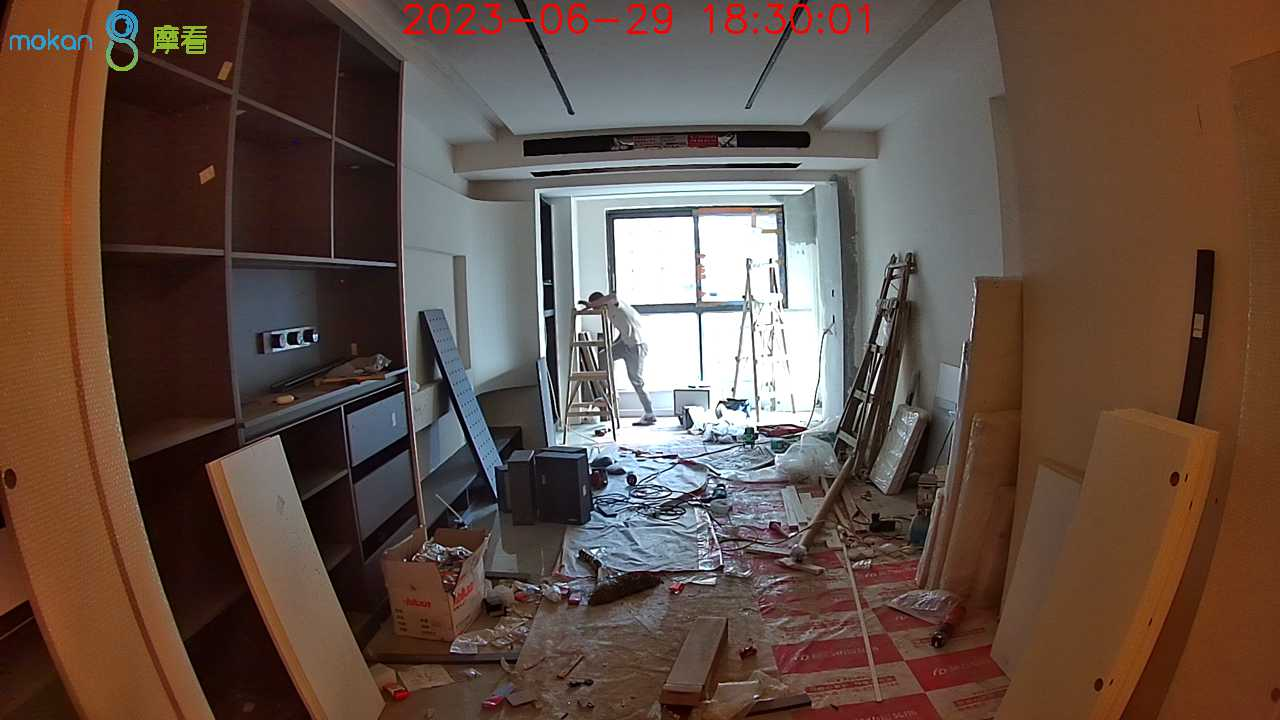people: (579, 289, 657, 430)
window: (606, 210, 782, 396)
